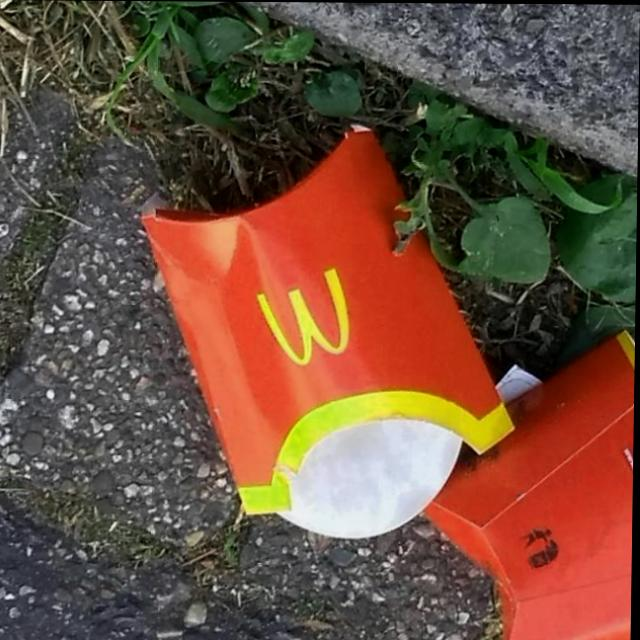Paper: (136, 118, 524, 545), (419, 321, 636, 640)
